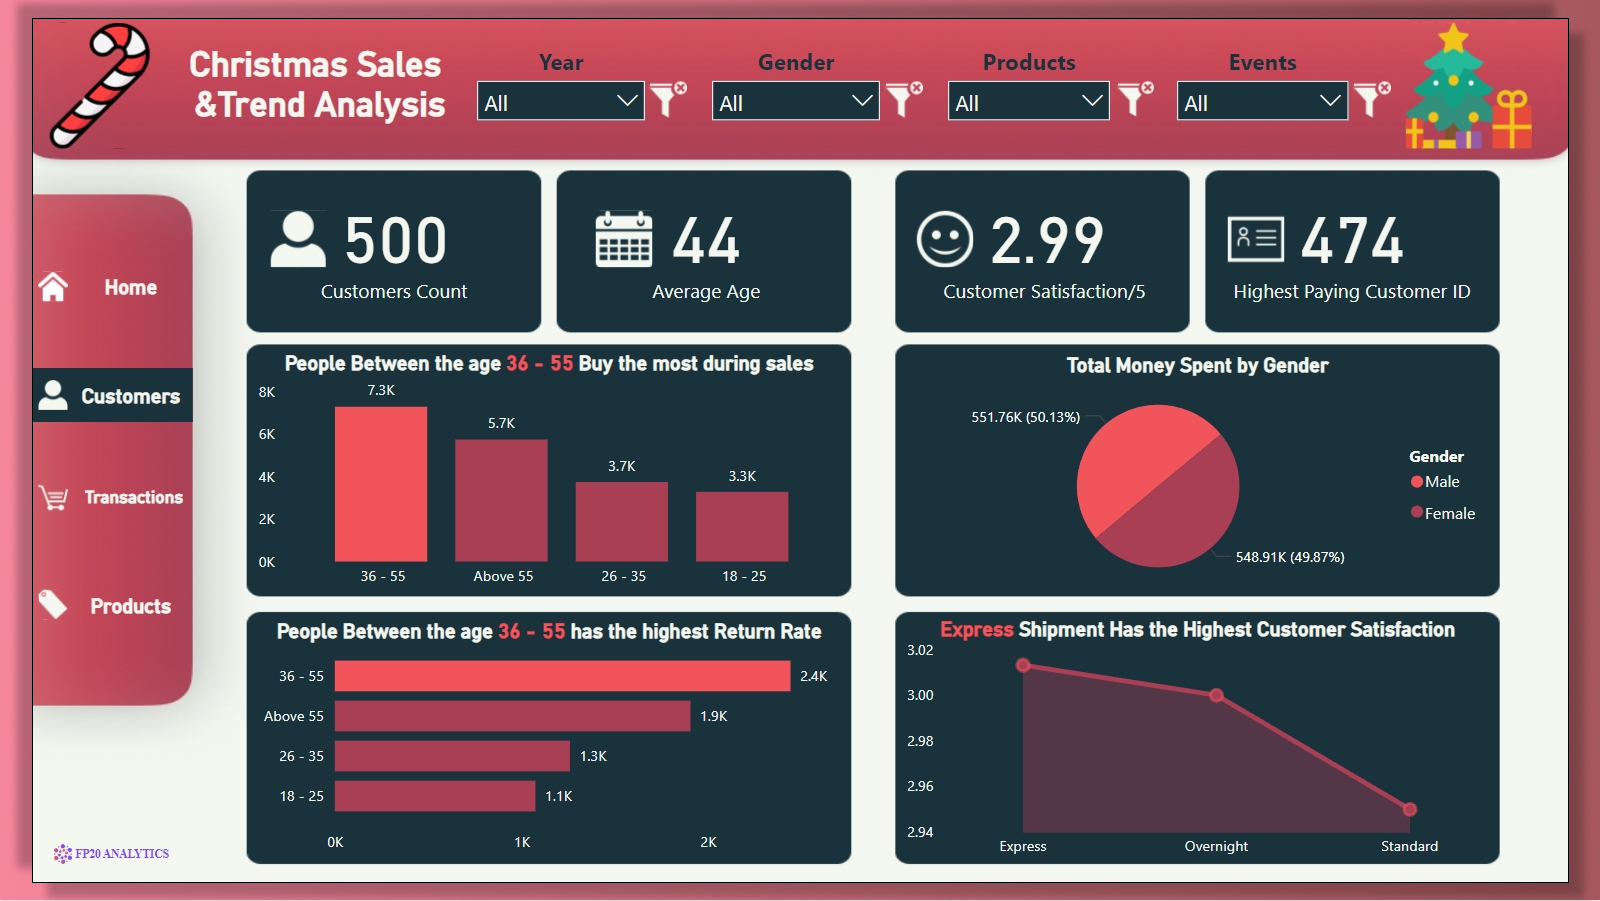

The page's visual inventory and layout, read from the dashboard file:
{"tool":"powerbi","page":{"name":"Customers","canvas":[1280,720],"ordinal":1},"visuals":[{"type":"card","title":"Customers Count","fields":{"Values":["Count(CHRISTMAS SALES.Customer ID)"]},"box":[194.5,125.5,215.5,125.5],"z":0},{"type":"textbox","box":[61.1,16.6,358.3,87],"z":1000},{"type":"actionButton","box":[0,291.8,134,45],"z":2000},{"type":"card","title":"Customers Average Age","fields":{"Values":["Avg(CHRISTMAS SALES.Age)"]},"box":[454.5,125.5,215.5,125.5],"z":3000},{"type":"card","fields":{"Values":["Avg(CHRISTMAS SALES.Customer Satisfaction)"]},"box":[738.2,125.5,215.5,125.5],"z":4000},{"type":"actionButton","box":[0,674.4,130,45.6],"z":5000},{"type":"actionButton","box":[0,0,115,112.9],"z":6000},{"type":"actionButton","box":[1141.2,0,115,112.9],"z":7000},{"type":"actionButton","box":[0,379.4,134,40],"z":8000},{"type":"actionButton","box":[0,468.8,134,40],"z":9000},{"type":"card","fields":{"Values":["Median(CHRISTMAS SALES.Customer ID)"]},"box":[992.7,125.5,215.5,125.5],"z":10000},{"type":"pieChart","title":"Total Money Spent by Gender","fields":{"Category":["CHRISTMAS SALES.Gender"],"Y":["Sum(CHRISTMAS SALES.Total Price)"]},"box":[724.5,279.1,494.5,202.7],"z":11000},{"type":"columnChart","fields":{"Category":["CHRISTMAS SALES.Age Brackets"],"Y":["Sum(CHRISTMAS SALES.Quantity)"]},"box":[183.6,287.3,495.5,195.5],"z":12000},{"type":"textbox","box":[183.6,272.7,495.5,31.8],"z":13000},{"type":"areaChart","fields":{"Category":["CHRISTMAS SALES.Shipping Method"],"Y":["Avg(CHRISTMAS SALES.Customer Satisfaction)"]},"box":[723.6,512.7,494.5,195.5],"z":14000},{"type":"textbox","box":[724.5,494.5,494.5,35.5],"z":15000},{"type":"barChart","fields":{"Category":["CHRISTMAS SALES.Age Brackets"],"Y":["CountNonNull(CHRISTMAS SALES.Return Flag)"]},"box":[183.6,509.1,495.5,195.5],"z":16000},{"type":"textbox","box":[183.6,495.5,495.5,31.8],"z":17000},{"type":"actionButton","box":[0,202.9,134,40],"z":18000},{"type":"slicer","title":"Products","fields":{"Values":["CHRISTMAS SALES.Product Name"]},"box":[753.2,23.6,155,65],"z":19000},{"type":"slicer","title":"Events","fields":{"Values":["CHRISTMAS SALES.Event"]},"box":[944.5,23.6,162.5,65],"z":20000},{"type":"actionButton","box":[707.3,48.3,39.1,39.1],"z":21000},{"type":"slicer","title":"Gender","fields":{"Values":["CHRISTMAS SALES.Gender"]},"box":[557,23.6,160,80],"z":22000},{"type":"actionButton","box":[1097.3,48.3,39.1,39.1],"z":23000},{"type":"actionButton","box":[900.9,48.5,38.2,39.1],"z":24000},{"type":"actionButton","box":[194.5,156.4,55.5,55.5],"z":24001},{"type":"actionButton","box":[465.5,156.4,55.5,55.5],"z":24002},{"type":"actionButton","box":[733.6,156.4,55.5,55.5],"z":24003},{"type":"actionButton","box":[992.7,156.4,55.5,55.5],"z":24004},{"type":"actionButton","box":[510.9,48.3,39.1,39.1],"z":24005},{"type":"slicer","title":"Year","fields":{"Values":["CHRISTMAS SALES.Year"]},"box":[360.8,23.6,160,80],"z":24006}]}

Visuals, with their boxes in screenshot pixels (x1, y1, x2, y2), scaled from the page's 1280x720 canvas onto the 1600x901 screenshot:
"Customers Count" card: bbox=(243, 157, 512, 314)
textbox: bbox=(76, 21, 524, 130)
actionButton: bbox=(0, 365, 168, 421)
"Customers Average Age" card: bbox=(568, 157, 838, 314)
card - Avg(CHRISTMAS SALES.Customer Satisfaction): bbox=(923, 157, 1192, 314)
actionButton: bbox=(0, 844, 162, 900)
actionButton: bbox=(0, 0, 144, 141)
actionButton: bbox=(1426, 0, 1570, 141)
actionButton: bbox=(0, 475, 168, 525)
actionButton: bbox=(0, 587, 168, 637)
card - Median(CHRISTMAS SALES.Customer ID): bbox=(1241, 157, 1510, 314)
"Total Money Spent by Gender" pieChart: bbox=(906, 349, 1524, 603)
columnChart - CHRISTMAS SALES.Age Brackets x Sum(CHRISTMAS SALES.Quantity): bbox=(230, 360, 849, 604)
textbox: bbox=(230, 341, 849, 381)
areaChart - CHRISTMAS SALES.Shipping Method x Avg(CHRISTMAS SALES.Customer Satisfaction): bbox=(904, 642, 1523, 886)
textbox: bbox=(906, 619, 1524, 663)
barChart - CHRISTMAS SALES.Age Brackets x CountNonNull(CHRISTMAS SALES.Return Flag): bbox=(230, 637, 849, 882)
textbox: bbox=(230, 620, 849, 660)
actionButton: bbox=(0, 254, 168, 304)
"Products" slicer: bbox=(942, 30, 1135, 111)
"Events" slicer: bbox=(1181, 30, 1384, 111)
actionButton: bbox=(884, 60, 933, 109)
"Gender" slicer: bbox=(696, 30, 896, 130)
actionButton: bbox=(1372, 60, 1420, 109)
actionButton: bbox=(1126, 61, 1174, 110)
actionButton: bbox=(243, 196, 312, 265)
actionButton: bbox=(582, 196, 651, 265)
actionButton: bbox=(917, 196, 986, 265)
actionButton: bbox=(1241, 196, 1310, 265)
actionButton: bbox=(639, 60, 688, 109)
"Year" slicer: bbox=(451, 30, 651, 130)
